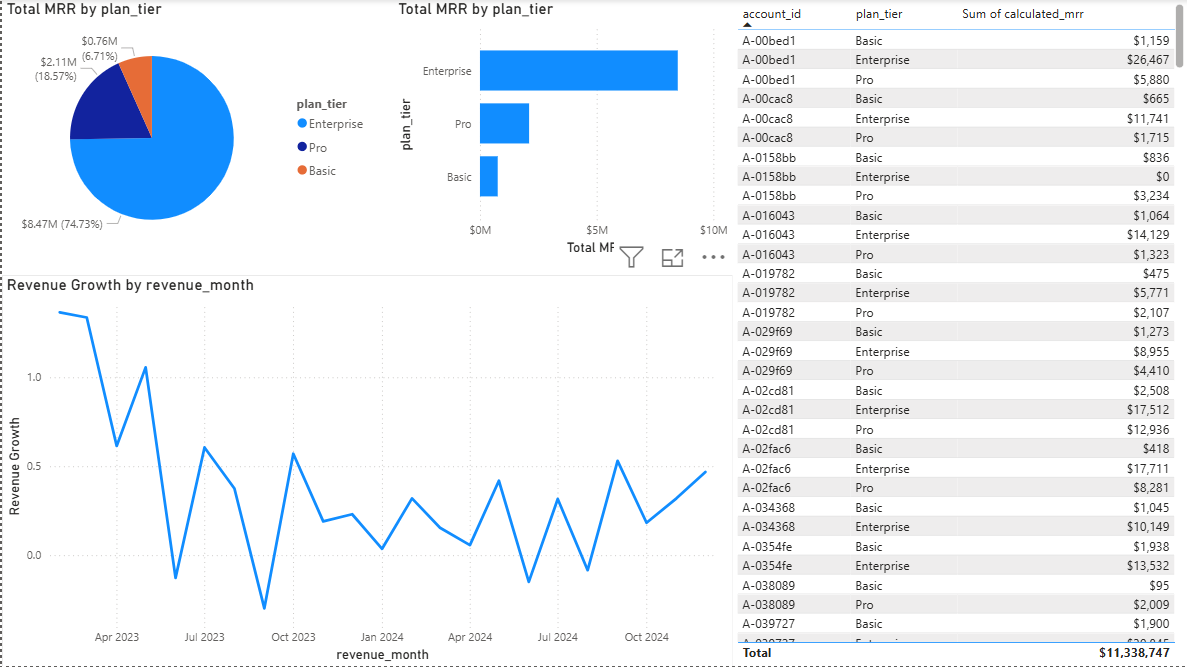

The page's visual inventory and layout, read from the dashboard file:
{"tool":"powerbi","page":{"name":"Revenue Analysis","canvas":[1280,720],"ordinal":1},"visuals":[{"type":"barChart","fields":{"Y":["Measures (2).Total MRR"],"Category":["fct_subscriptions.plan_tier"]},"box":[422,0,366,280],"z":0},{"type":"lineChart","fields":{"Category":["fct_revenue.revenue_month"],"Y":["Measures (2).Revenue Growth"]},"box":[0,298,788,422],"z":1000},{"type":"pieChart","fields":{"Category":["fct_subscriptions.plan_tier"],"Y":["Measures (2).Total MRR"]},"box":[0,0,404,280],"z":2000},{"type":"tableEx","fields":{"Values":["dim_accounts.account_id","fct_subscriptions.plan_tier","Sum(fct_subscriptions.calculated_mrr)"]},"box":[788,0,492,720],"z":3000}]}

Visuals, with their boxes in screenshot pixels (x1, y1, x2, y2), scaled from the page's 1280x720 canvas onto the 1187x667 screenshot:
barChart - Measures (2).Total MRR x fct_subscriptions.plan_tier: [391,0,731,259]
lineChart - fct_revenue.revenue_month x Measures (2).Revenue Growth: [0,276,731,666]
pieChart - fct_subscriptions.plan_tier x Measures (2).Total MRR: [0,0,375,259]
tableEx - dim_accounts.account_id x fct_subscriptions.plan_tier: [731,0,1186,666]
